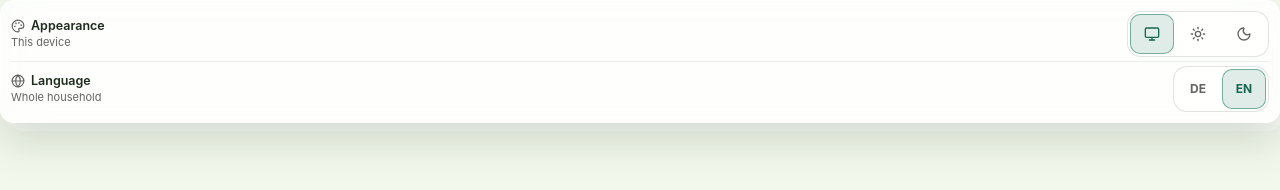
Test case: PreferencesCard › reverts the strip and shows an alert when the save fails
Click the radio button with aria-label "Deutsch" at (1198, 89), box [1176,69,1220,109]
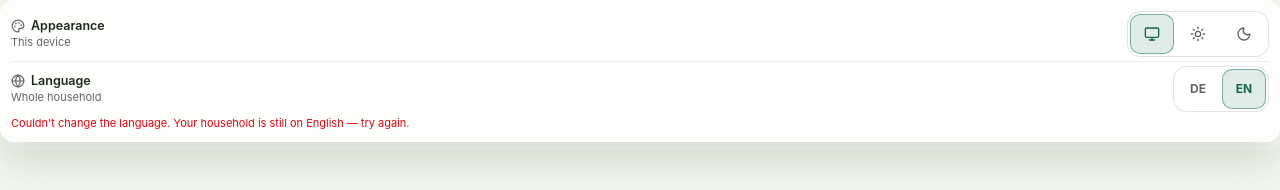
Expected: the radio button with aria-label "English" is checked, [1222,69,1266,109]
Now the message "Couldn't change the language. Your household is still on English — try again." is shown, box [11,116,410,130]
